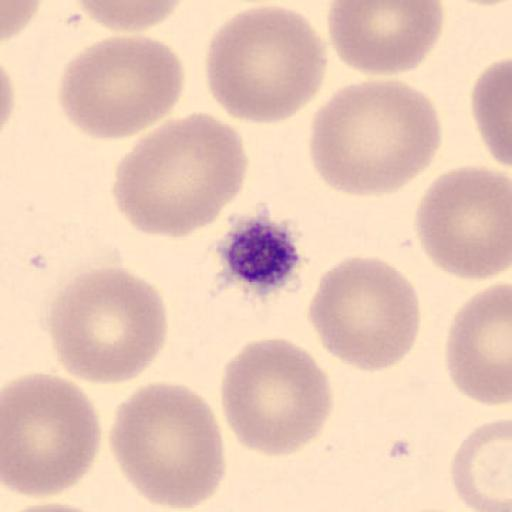Platelet: (209, 212, 306, 298)
RBC: (112, 112, 248, 241), (306, 77, 444, 198), (107, 380, 226, 511), (203, 3, 329, 125), (46, 265, 169, 385), (218, 336, 335, 458), (56, 34, 186, 142), (306, 254, 422, 374), (3, 372, 102, 500), (413, 162, 511, 282), (326, 1, 445, 77), (445, 281, 512, 407), (449, 417, 512, 512), (471, 55, 512, 169), (70, 0, 186, 34), (2, 0, 42, 42), (0, 499, 115, 511), (0, 60, 16, 136), (2, 502, 109, 512), (448, 0, 512, 6)
